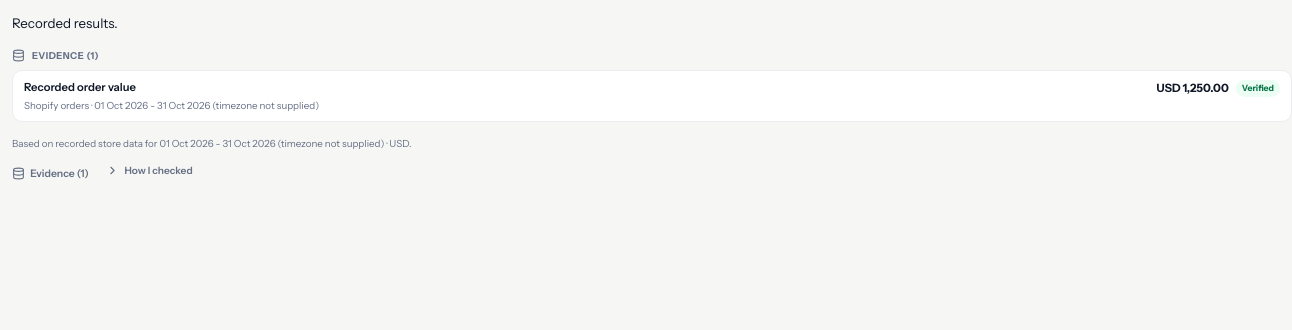
evidence ledger › marks stale records without inventing a refresh time
Click the button with aria-label "Recorded order value — Verified. Expand details.".
click(80, 87)  # box [24, 80, 1280, 112]
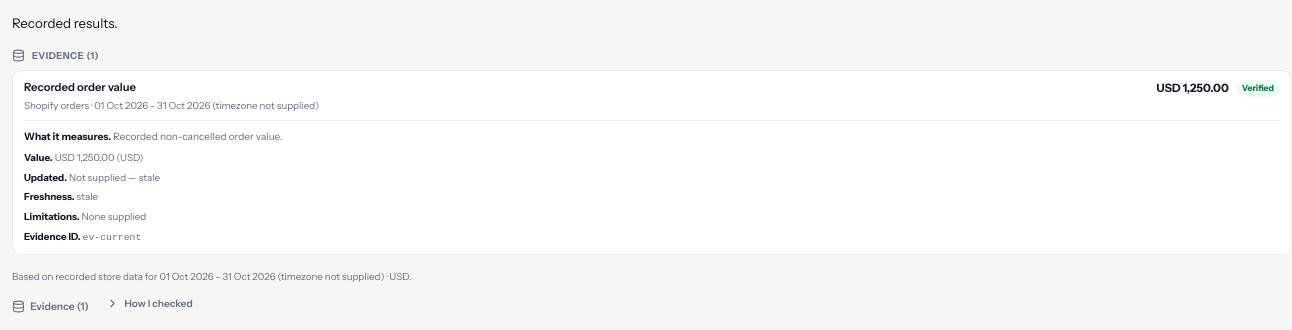
Now the text "Updated. Not supplied — stale" is shown, box [24, 170, 160, 182]
